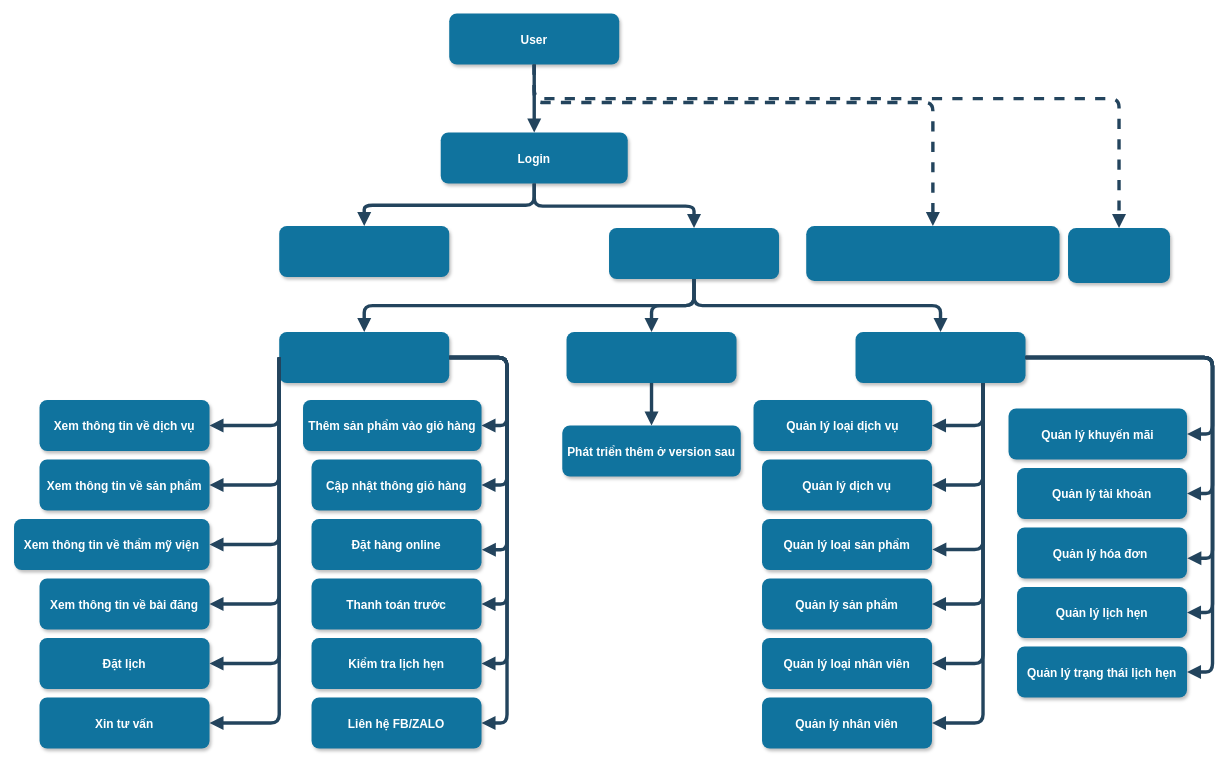
Image size: 1227x762. Some labels were removed from this diagram. Here are the shapes that lost their labels. From the top down, the centre of each, then its label:
the point at 364,252: Sai báo lỗi
the point at 694,254: Xác nhận người dùng
the point at 933,254: Xem thông tin(dịch vụ, sản phẩm...)
the point at 1119,256: Đăng ký
the point at 364,358: Khách hàng
the point at 652,358: Nhân viên
the point at 941,358: Admin
